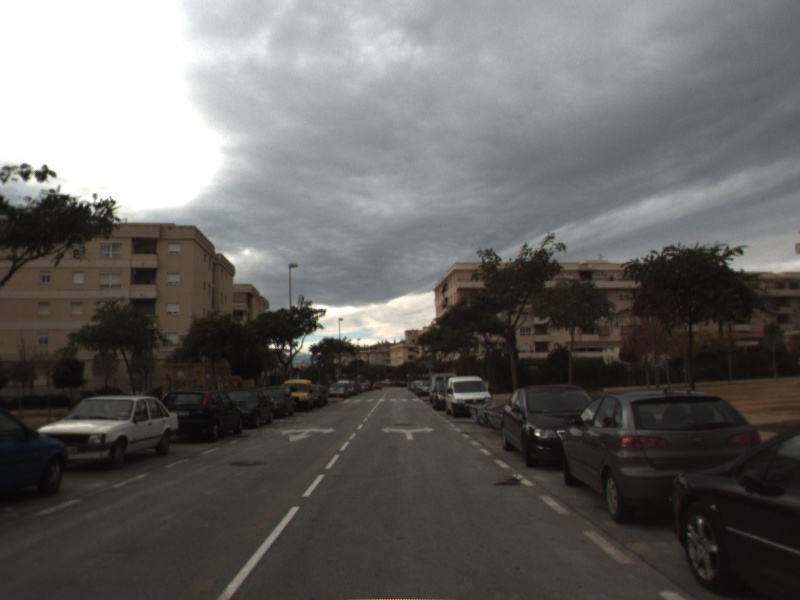LEFT_RIGHT: (378, 424, 437, 442)
